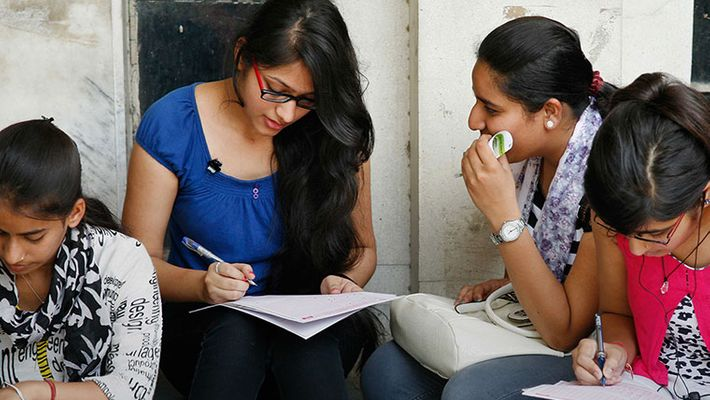Person: (121, 1, 377, 400), (362, 14, 602, 400), (571, 72, 710, 400), (1, 114, 156, 400)
